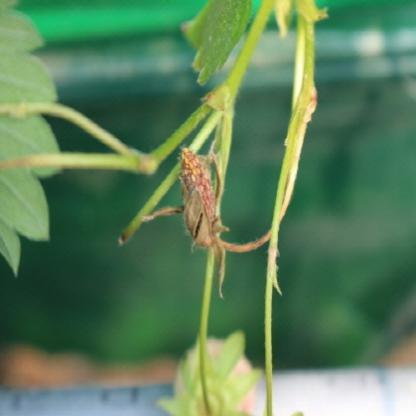Strawberry_Gray_Mold: (142, 145, 229, 299)
